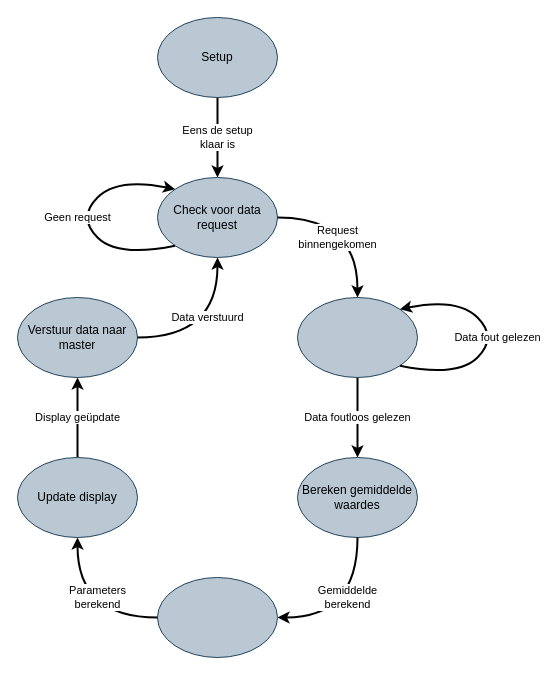
Some shapes in this 558 by 675 pixel diagram are drawn without their labels. The shapes that lost their labels are listed below. From the top down, each one's centre as x and y in pixels, then its label:
point (357, 337): Lees sensor data meerdere keren
point (217, 617): Bereken nodige parameters (dauwpunt)
